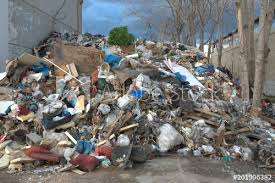garbage: (4, 67, 235, 158), (39, 43, 210, 153)
